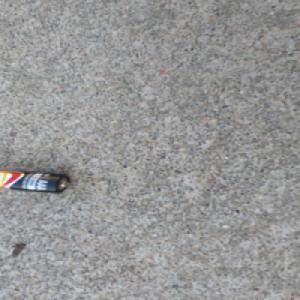Battery: (0, 169, 72, 194)
